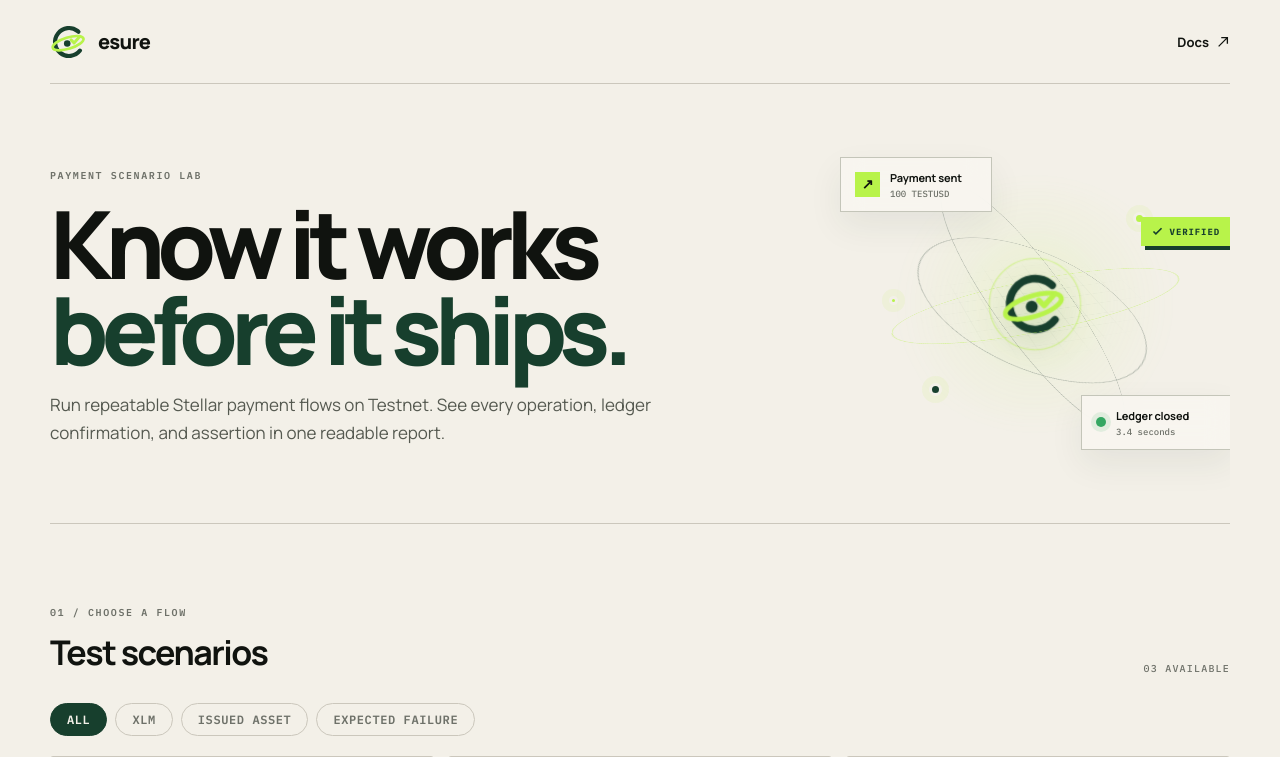
it: Dashboard component scenario filtering › filters scenarios when clicking 'Issued Asset'
Check: the text "03 AVAILABLE" is shown, box [1144,662,1230,675]
Click the tab "Issued Asset". click: (245, 720)
box: [181,703,308,736]
(page scrolled)
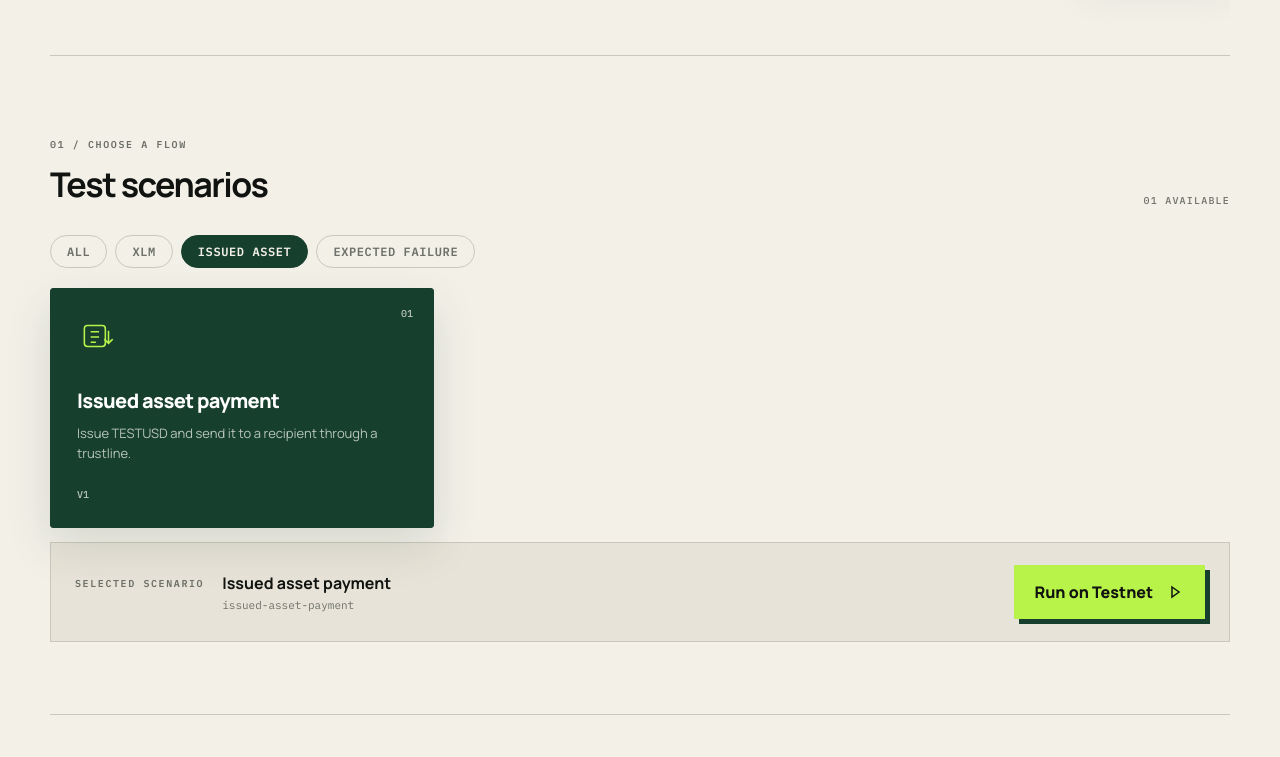
Check: the 1st text "Issued asset payment" is shown, box [77,387,279,414]
Check: the text "01 AVAILABLE" is shown, box [1144,194,1230,207]
